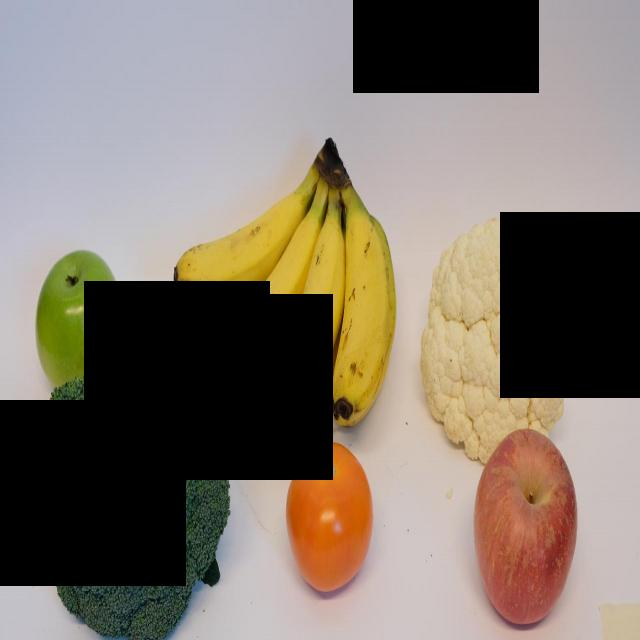apple: (458, 420, 580, 634), (38, 237, 129, 380)
banana: (203, 206, 329, 398), (171, 179, 306, 320), (262, 221, 350, 419), (324, 201, 396, 430)
broccoli: (27, 359, 236, 638)
cauliflower: (425, 206, 567, 454)
tomato: (283, 433, 384, 600)
